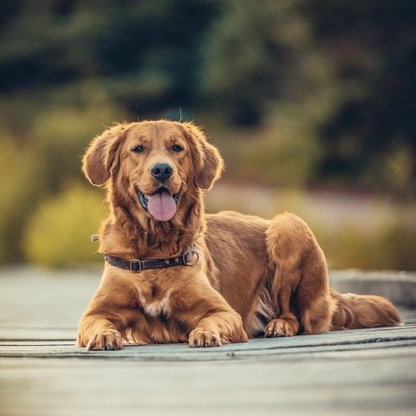labrado: (72, 113, 406, 360)
